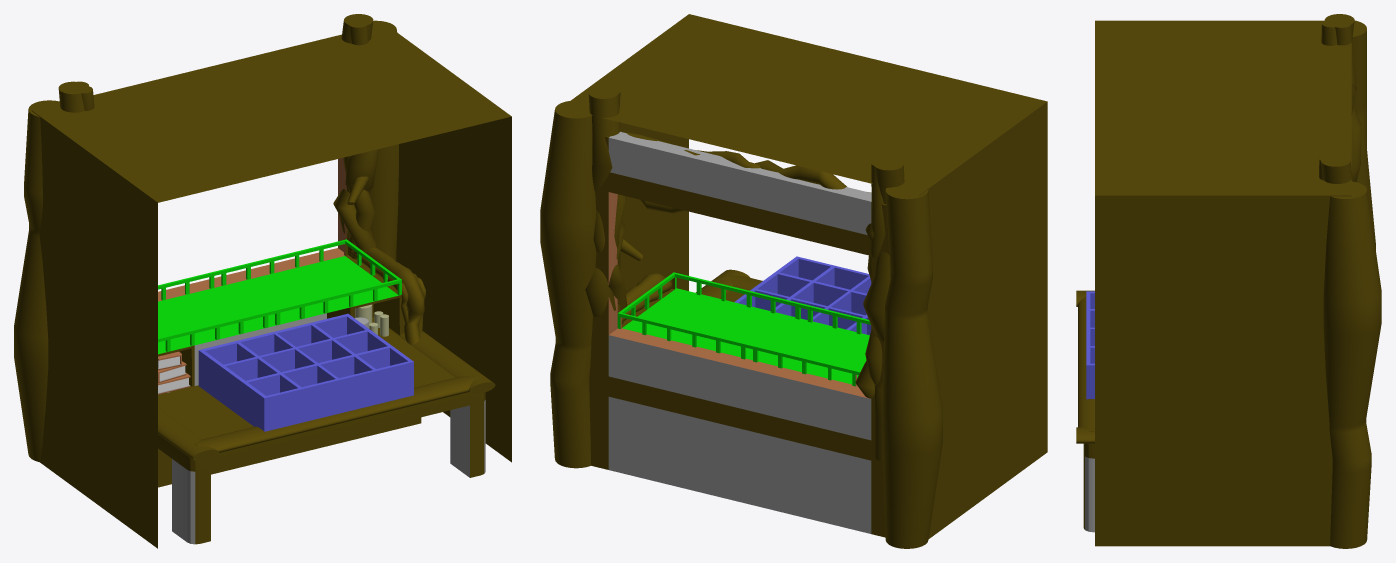
The model's file is shopv1.fbx.
The picture shows the model from 3 angles, left to right: view 1: azimuth 30°, elevation 25°; view 2: azimuth 150°, elevation 25°; view 3: azimuth 270°, elevation 25°; orthographic projection.
Parts seen in each view (by area): view 1: walls1, shop_working, draw4x2_2, pCylinder10, pCylinder22, pCylinder21, pCylinder12, pCylinder7 (×2), pCylinder18, pCylinder8, pCylinder9; view 2: walls1, shop_working, pCylinder10, pCylinder12, pCylinder7 (×2), draw4x2_2, pCylinder8 (×2), pCylinder9 (×2), pCylinder14; view 3: walls1, pCylinder12, pCylinder10, pCylinder7 (×2), pCylinder22, shop_working, draw4x2_2, pCylinder8, pCylinder9, pCylinder21.
Part boxes in pixels (x1=…): walls1: x1=31, y1=24, x2=511, y2=548; shop_working: x1=158, y1=158, x2=485, y2=544; draw4x2_2: x1=198, y1=313, x2=413, y2=431; pCylinder10: x1=14, y1=100, x2=59, y2=462; pCylinder22: x1=194, y1=375, x2=477, y2=452; pCylinder21: x1=158, y1=317, x2=495, y2=461; pCylinder12: x1=369, y1=20, x2=398, y2=260; pCylinder7 (×2): x1=58, y1=14, x2=378, y2=254; pCylinder18: x1=365, y1=247, x2=424, y2=344; pCylinder8: x1=343, y1=19, x2=375, y2=256; pCylinder9: x1=333, y1=17, x2=376, y2=259; walls1: x1=560, y1=14, x2=1047, y2=538; shop_working: x1=589, y1=131, x2=889, y2=537; pCylinder10: x1=882, y1=188, x2=942, y2=548; pCylinder12: x1=540, y1=101, x2=596, y2=468; pCylinder7 (×2): x1=585, y1=86, x2=904, y2=461; draw4x2_2: x1=734, y1=256, x2=871, y2=335; pCylinder8 (×2): x1=602, y1=87, x2=889, y2=384; pCylinder9 (×2): x1=593, y1=90, x2=896, y2=398; pCylinder14: x1=622, y1=132, x2=846, y2=189; walls1: x1=1095, y1=20, x2=1351, y2=546; pCylinder12: x1=1323, y1=181, x2=1381, y2=548; pCylinder10: x1=1352, y1=20, x2=1375, y2=249; pCylinder7 (×2): x1=1321, y1=14, x2=1361, y2=183; pCylinder22: x1=1078, y1=296, x2=1094, y2=431; shop_working: x1=1083, y1=443, x2=1094, y2=532; draw4x2_2: x1=1086, y1=291, x2=1094, y2=399; pCylinder8: x1=1332, y1=20, x2=1356, y2=115; pCylinder9: x1=1321, y1=19, x2=1356, y2=100; pCylinder21: x1=1076, y1=290, x2=1094, y2=443.
Bounding box in the file's own units: 313 × 281 × 211.
